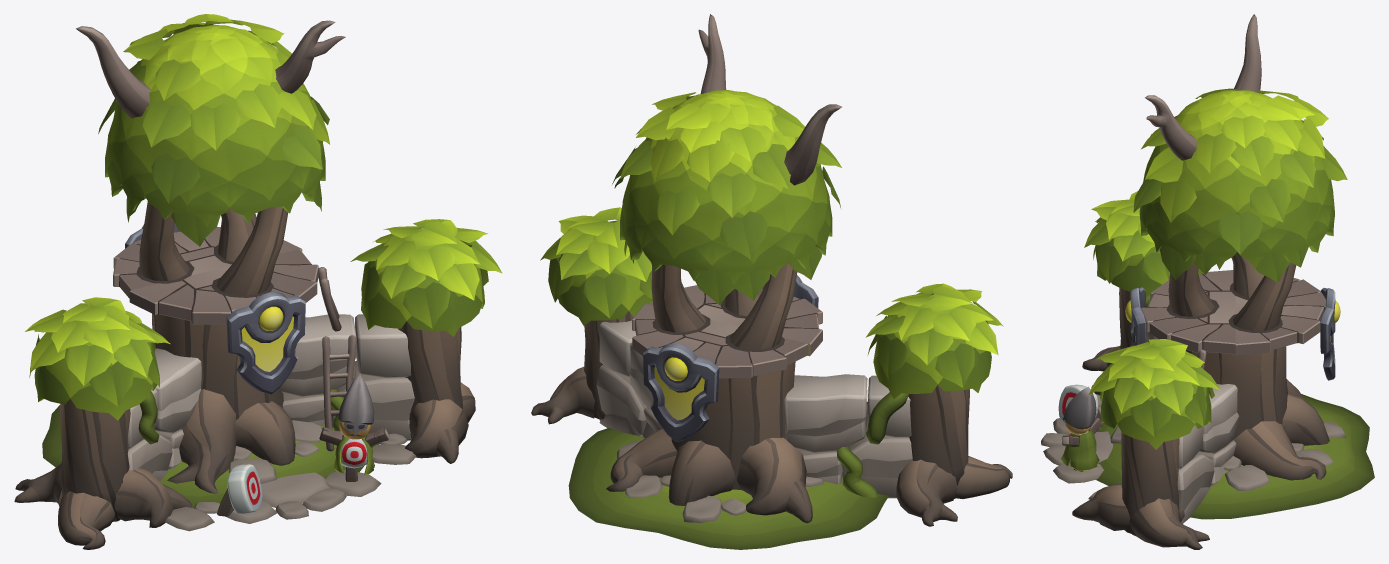
The model's file is elf_barrack_Lv1.fbx.
3 renders of one model, left to right at view 1: azimuth 30°, elevation 25°; view 2: azimuth 150°, elevation 25°; view 3: azimuth 270°, elevation 25°, orthographic. The views are drawn at different scales.
Visible parts, largest first — view 1: armiture_elf_barrack_Lv1; view 2: armiture_elf_barrack_Lv1; view 3: armiture_elf_barrack_Lv1.
Part boxes in pixels (x1,y1,x2,y2): armiture_elf_barrack_Lv1: (14, 14, 502, 549); armiture_elf_barrack_Lv1: (531, 14, 1012, 549); armiture_elf_barrack_Lv1: (1041, 14, 1374, 549).
Bounding box in the file's own units: 11.25 × 10.24 × 7.94.
